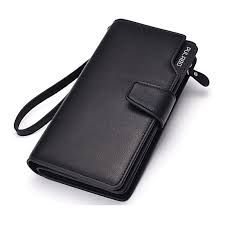monedero: (15, 19, 209, 201)
